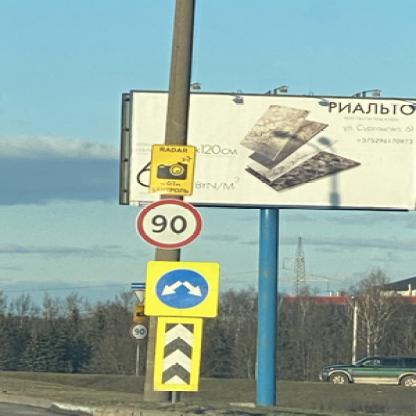speedlimit: (134, 198, 200, 249), (129, 323, 147, 338)
